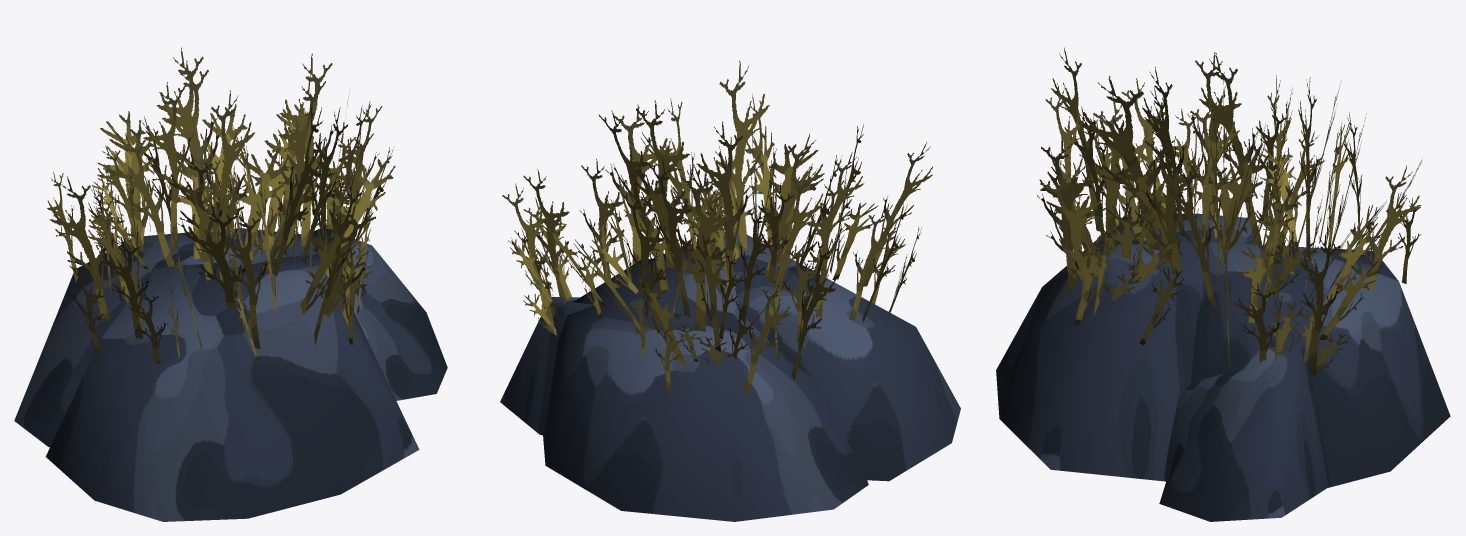
The model's file is Staghorn Coral 1_preview_3DS_simplified.glb.
3 views of the same model, side by side, from view 1: azimuth 30°, elevation 25°; view 2: azimuth 150°, elevation 25°; view 3: azimuth 270°, elevation 25° (orthographic). The views are drawn at different scales.
Visible parts, largest first — view 1: Marine Park Empire model; view 2: Marine Park Empire model; view 3: Marine Park Empire model.
Boxes of the visible parts, x1=… form: Marine Park Empire model: x1=14, y1=47, x2=447, y2=521; Marine Park Empire model: x1=500, y1=60, x2=960, y2=521; Marine Park Empire model: x1=996, y1=47, x2=1450, y2=521.
Size of the model in its own units: 36.88 by 32.55 by 34.68.
2 materials, 2 textured.
